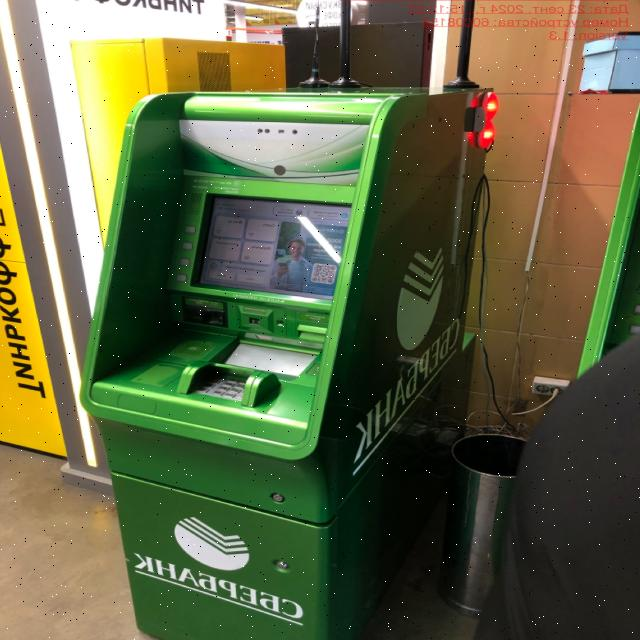bank: (79, 86, 494, 640)
